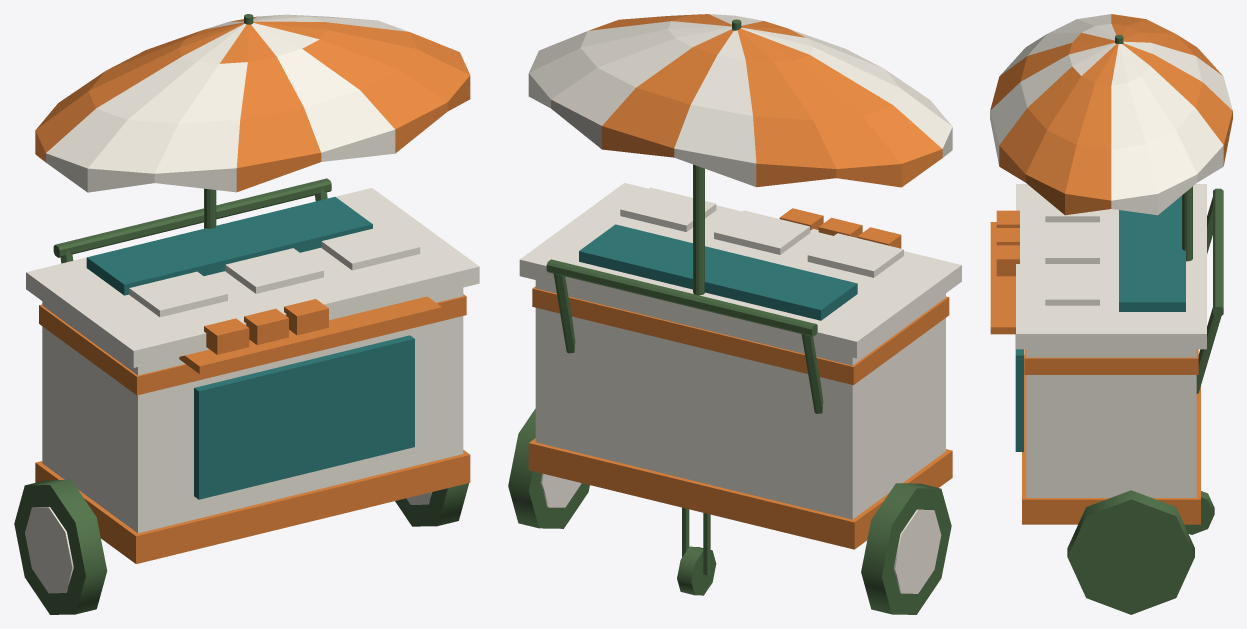
The picture shows the model from 3 angles, left to right: view 1: azimuth 30°, elevation 25°; view 2: azimuth 150°, elevation 25°; view 3: azimuth 270°, elevation 25°; orthographic projection. The views are drawn at different scales.
Visible parts, largest first — view 1: Enamel chest and counter, Citrus parasol, Running gear and handle; view 2: Enamel chest and counter, Citrus parasol, Running gear and handle; view 3: Enamel chest and counter, Citrus parasol, Running gear and handle.
Part boxes in pixels (bbox=[...]): Enamel chest and counter: bbox=[26, 188, 479, 563]; Citrus parasol: bbox=[35, 14, 470, 228]; Running gear and handle: bbox=[14, 178, 468, 614]; Enamel chest and counter: bbox=[519, 183, 961, 549]; Citrus parasol: bbox=[528, 14, 952, 295]; Running gear and handle: bbox=[508, 259, 951, 614]; Enamel chest and counter: bbox=[990, 184, 1206, 524]; Citrus parasol: bbox=[990, 14, 1232, 261]; Running gear and handle: bbox=[1067, 188, 1223, 614].
Bounding box in the file's own units: 2 × 2.57 × 1.14.
Materials: 1 (1 with a texture image).
